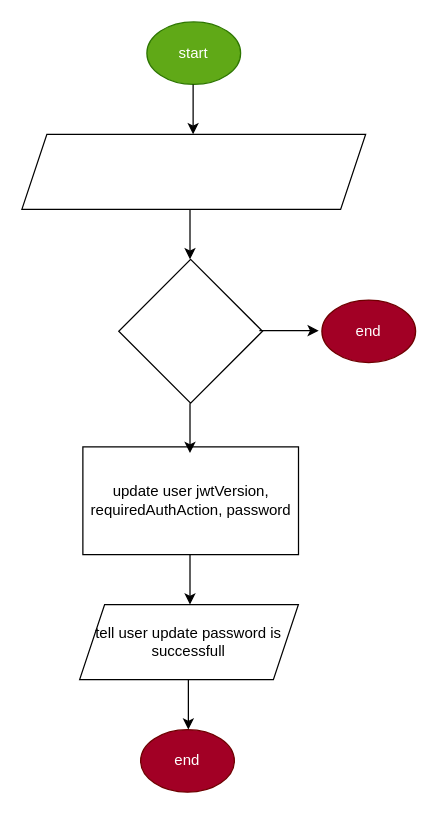
Some shapes in this 438 by 815 pixel diagram are drawn without their labels. The centre of each missing label's shape, as x and y in pixels:
input password. Get linkToken from req.params: (193,171)
input valid?: (190,330)
